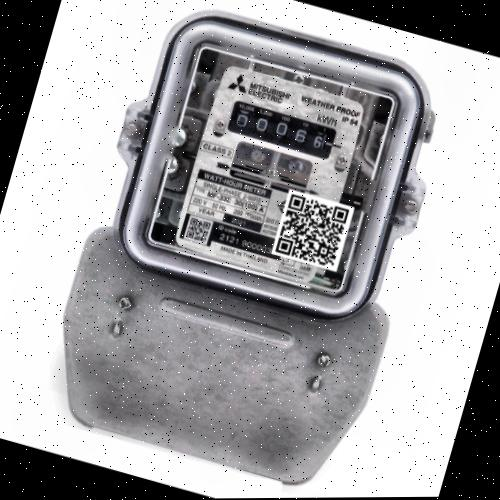qr_code: (270, 189, 354, 273)
